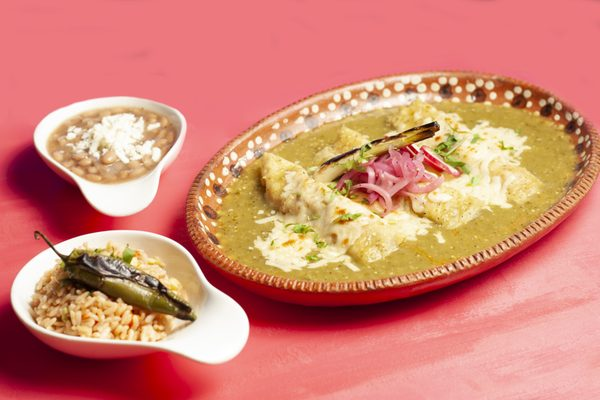burger: (28, 238, 194, 318)
sushi: (184, 74, 598, 305), (9, 229, 233, 363), (32, 96, 187, 215)
